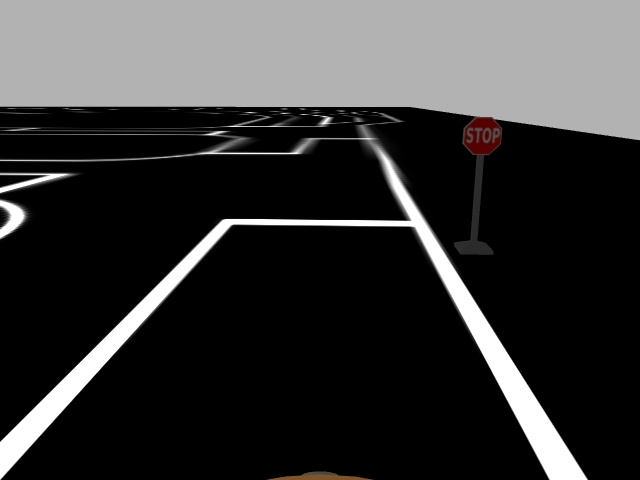stop: (458, 114, 504, 157)
